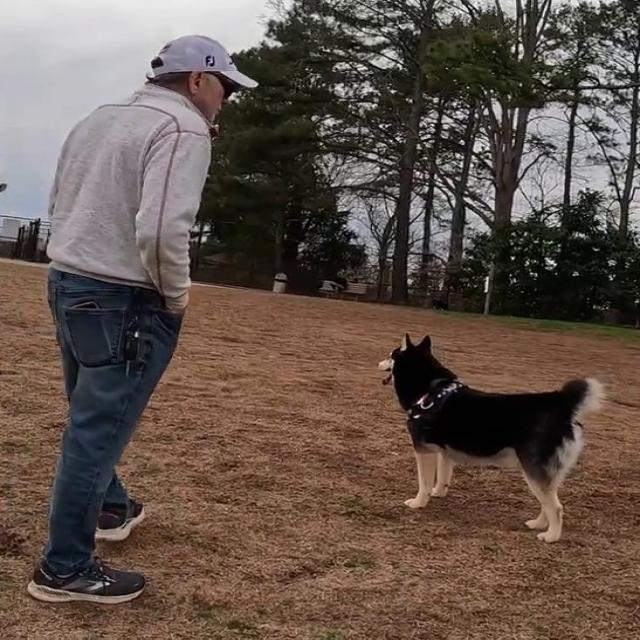Unleashed_Dog: (60, 270, 607, 543)
